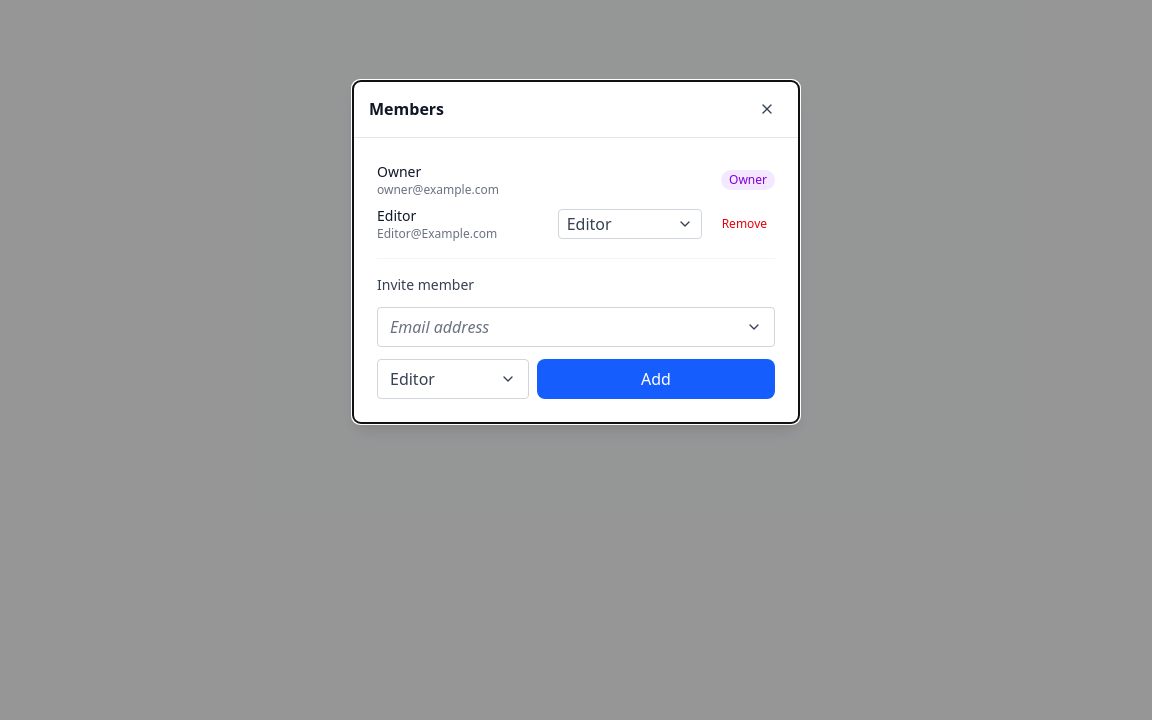
Test case: MembersDialog Select positioning › excludes loaded members from suggestions by trimmed case-insensitive email identity
Expected: the text "Editor" is shown, 377,206 -> 416,225
Type "example" into the dropdown with placeholder "Email address".
click(564, 327); type("example")  # box 390,317 -> 738,337
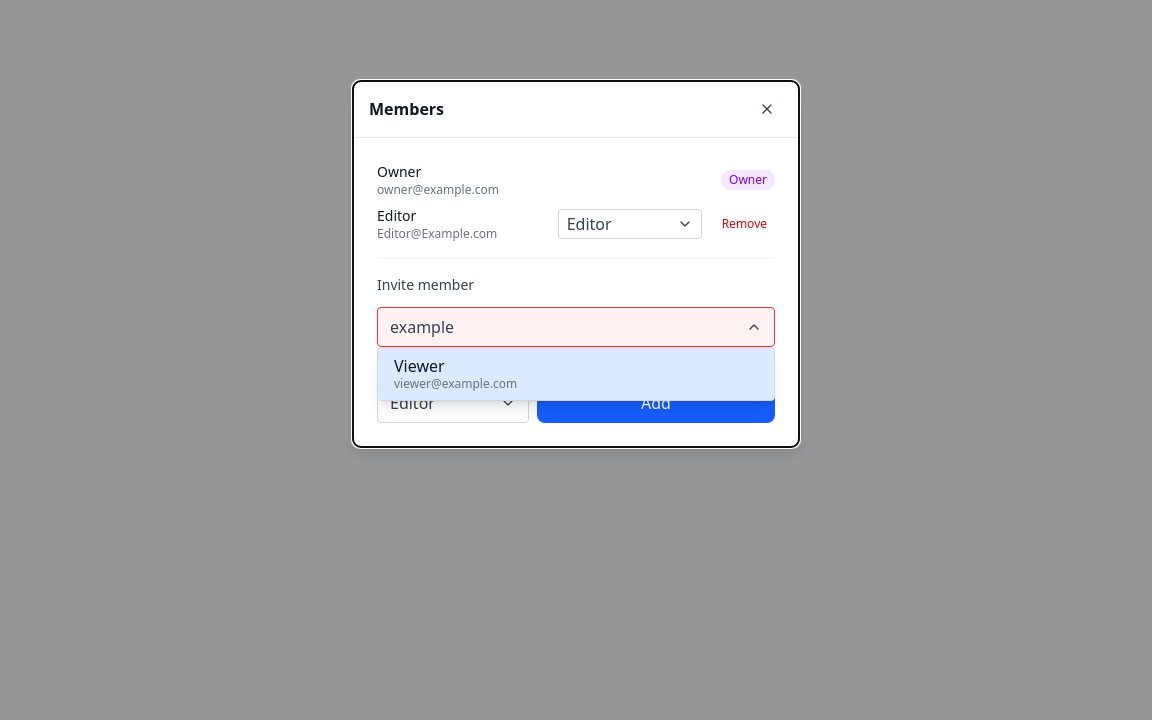
Result: the option "Viewer viewer@example.com" is shown at 378,348 -> 774,400
